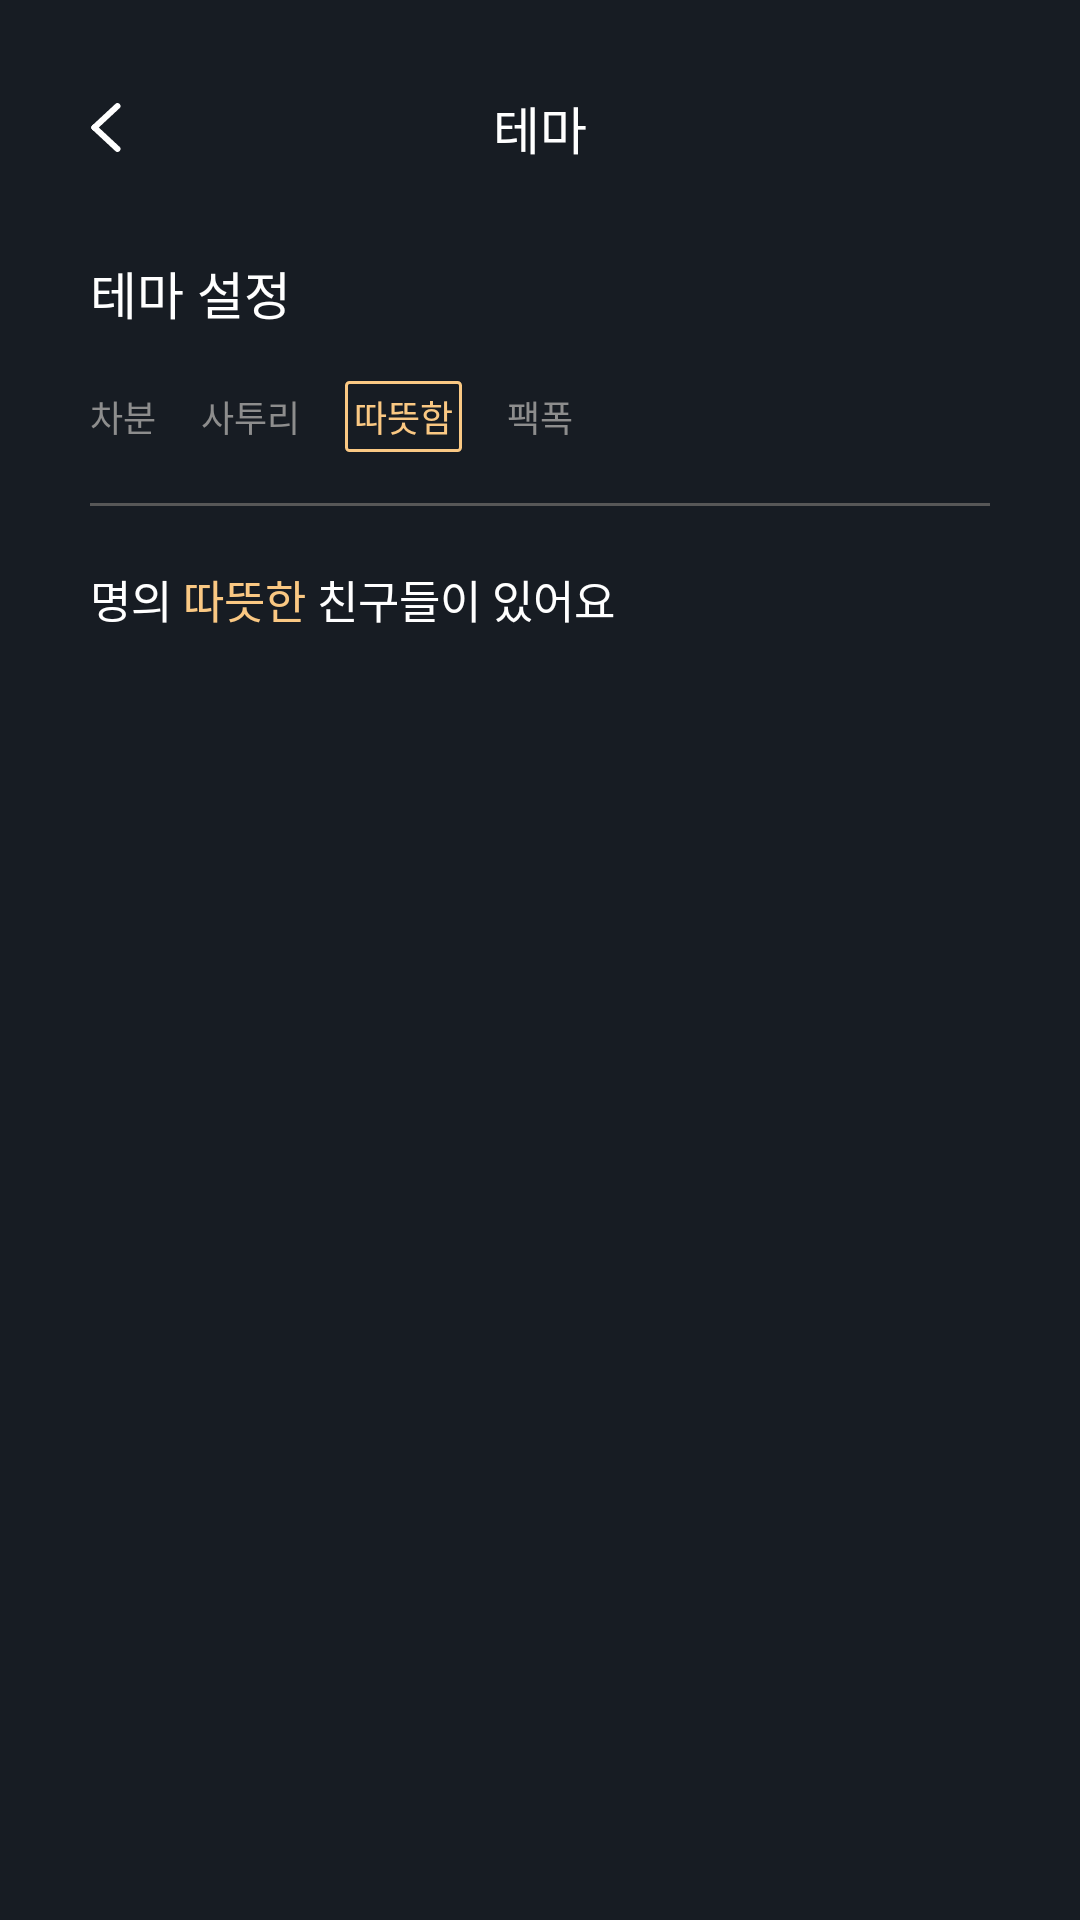

Icons on this 1080w x 1920h Android screen, each with its box as (x1, y1, x2, y2):
back: (91, 103, 121, 152)
